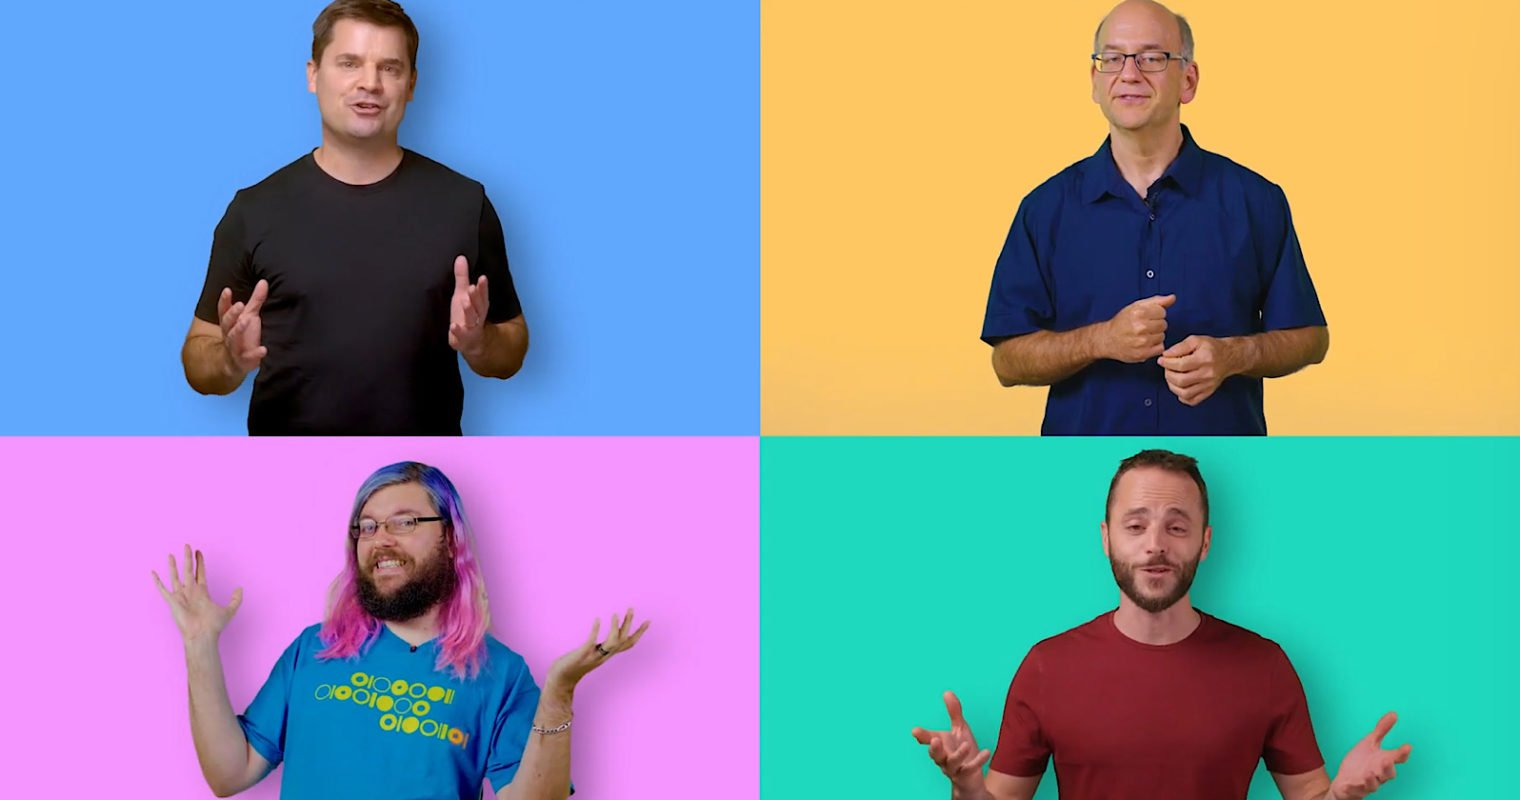noMask: (1075, 446, 1252, 629), (309, 458, 490, 627), (1070, 6, 1216, 159), (288, 10, 433, 152)
